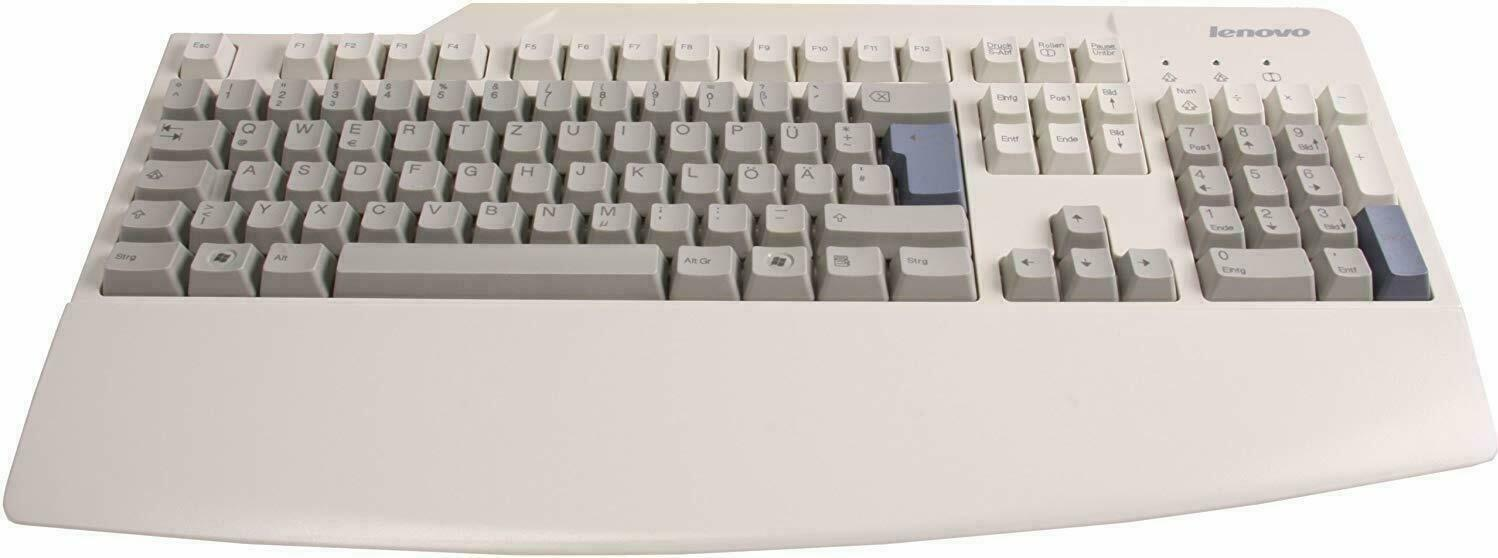0: (693, 78, 733, 111)
1: (211, 75, 253, 108)
2: (264, 74, 304, 108)
3: (317, 76, 358, 109)
4: (369, 76, 411, 109)
5: (424, 76, 464, 110)
6: (477, 76, 517, 109)
7: (532, 76, 571, 109)
8: (586, 77, 626, 110)
9: (640, 77, 679, 110)
a: (228, 156, 272, 189)
accent: (802, 78, 842, 110)
ae: (790, 160, 834, 192)
alt-left: (257, 239, 324, 274)
altgr-right: (668, 242, 735, 283)
b: (472, 199, 517, 228)
c: (356, 198, 404, 228)
caret: (160, 74, 199, 106)
comma: (646, 200, 689, 230)
d: (339, 156, 382, 190)
del: (857, 79, 950, 111)
e: (335, 116, 379, 149)
enter: (885, 118, 960, 193)
f: (395, 157, 438, 188)
g: (450, 158, 493, 190)
h: (507, 159, 550, 190)
hash: (848, 160, 889, 193)
i: (610, 118, 651, 149)
j: (563, 158, 605, 189)
k: (620, 159, 663, 190)
keyboard: (78, 16, 1450, 310)
l: (677, 159, 719, 191)
less: (186, 196, 236, 228)
m: (586, 199, 632, 230)
minus: (762, 200, 805, 231)
n: (529, 200, 574, 231)
o: (666, 118, 706, 149)
oe: (733, 159, 776, 191)
p: (721, 118, 761, 149)
plus: (831, 118, 870, 151)
point: (704, 200, 747, 230)
q: (227, 116, 273, 150)
r: (391, 117, 434, 149)
s: (282, 156, 326, 189)
shift-left: (116, 197, 179, 227)
shift-lock: (133, 157, 206, 188)
shift-right: (818, 200, 965, 235)
space: (329, 240, 662, 278)
ss: (748, 78, 788, 110)
strg-left: (97, 238, 181, 274)
strg-right: (889, 240, 975, 296)
t: (446, 117, 487, 149)
tab: (146, 116, 219, 150)
u: (554, 118, 596, 149)
ue: (776, 118, 816, 151)
v: (414, 198, 461, 227)
w: (282, 116, 325, 148)
x: (300, 198, 347, 228)
y: (243, 197, 291, 227)
z: (500, 118, 541, 149)
